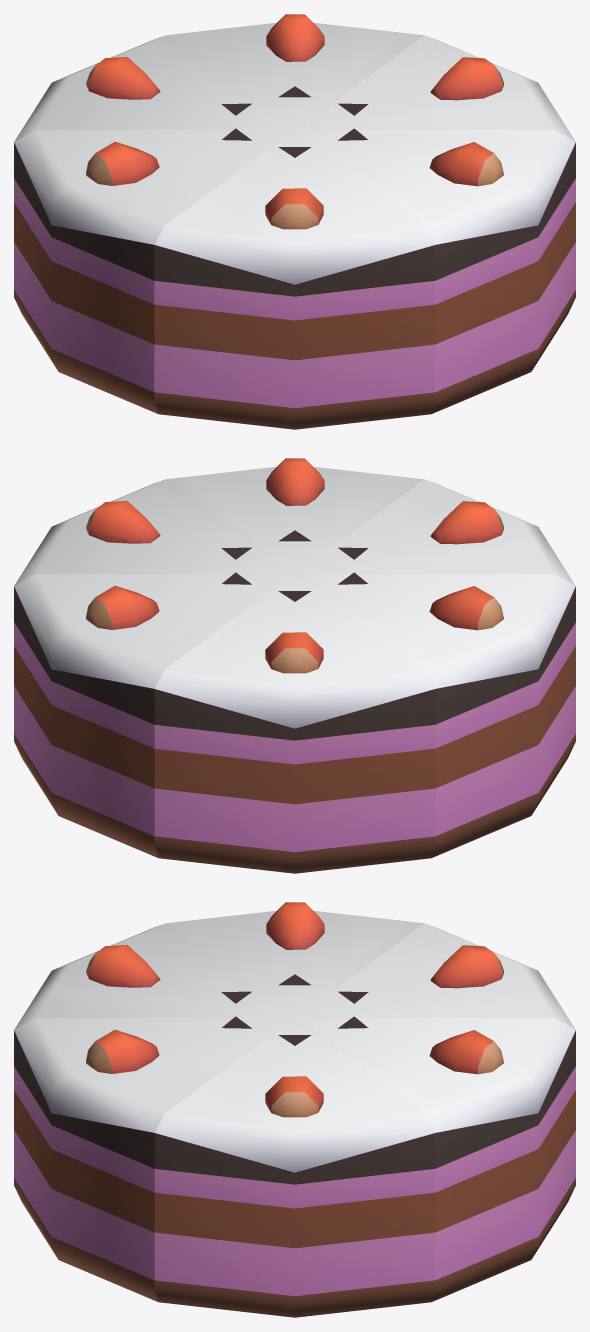
The model's file is cake.glb.
3 renders of one model, top to bottom at view 1: azimuth 30°, elevation 25°; view 2: azimuth 150°, elevation 25°; view 3: azimuth 270°, elevation 25°, orthographic.
Visible parts, largest first — view 1: slice; view 2: slice; view 3: slice.
Part boxes in pixels (bbox=[...]): slice: bbox=[14, 14, 575, 429]; slice: bbox=[14, 458, 575, 873]; slice: bbox=[14, 902, 575, 1317].
Size of the model in its own units: 0.6392 by 0.2731 by 0.6392.
1 material, 1 textured.
